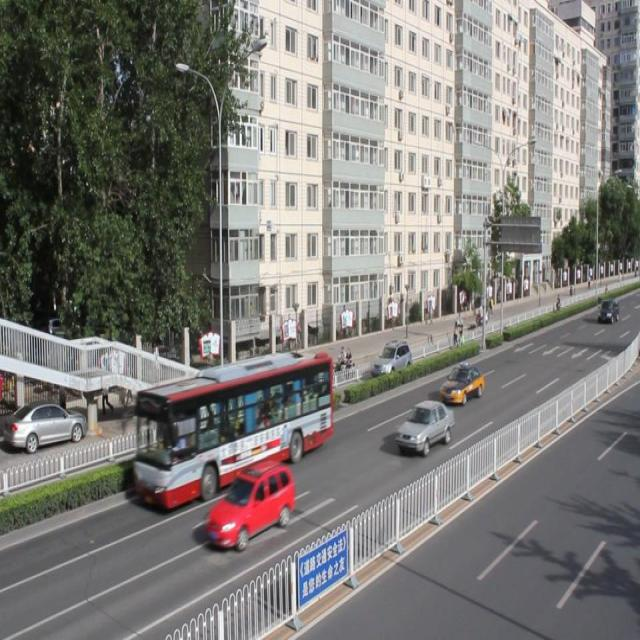car: (207, 459, 293, 546), (395, 398, 453, 453), (439, 362, 483, 406), (370, 338, 412, 378)
van: (137, 354, 331, 508)
